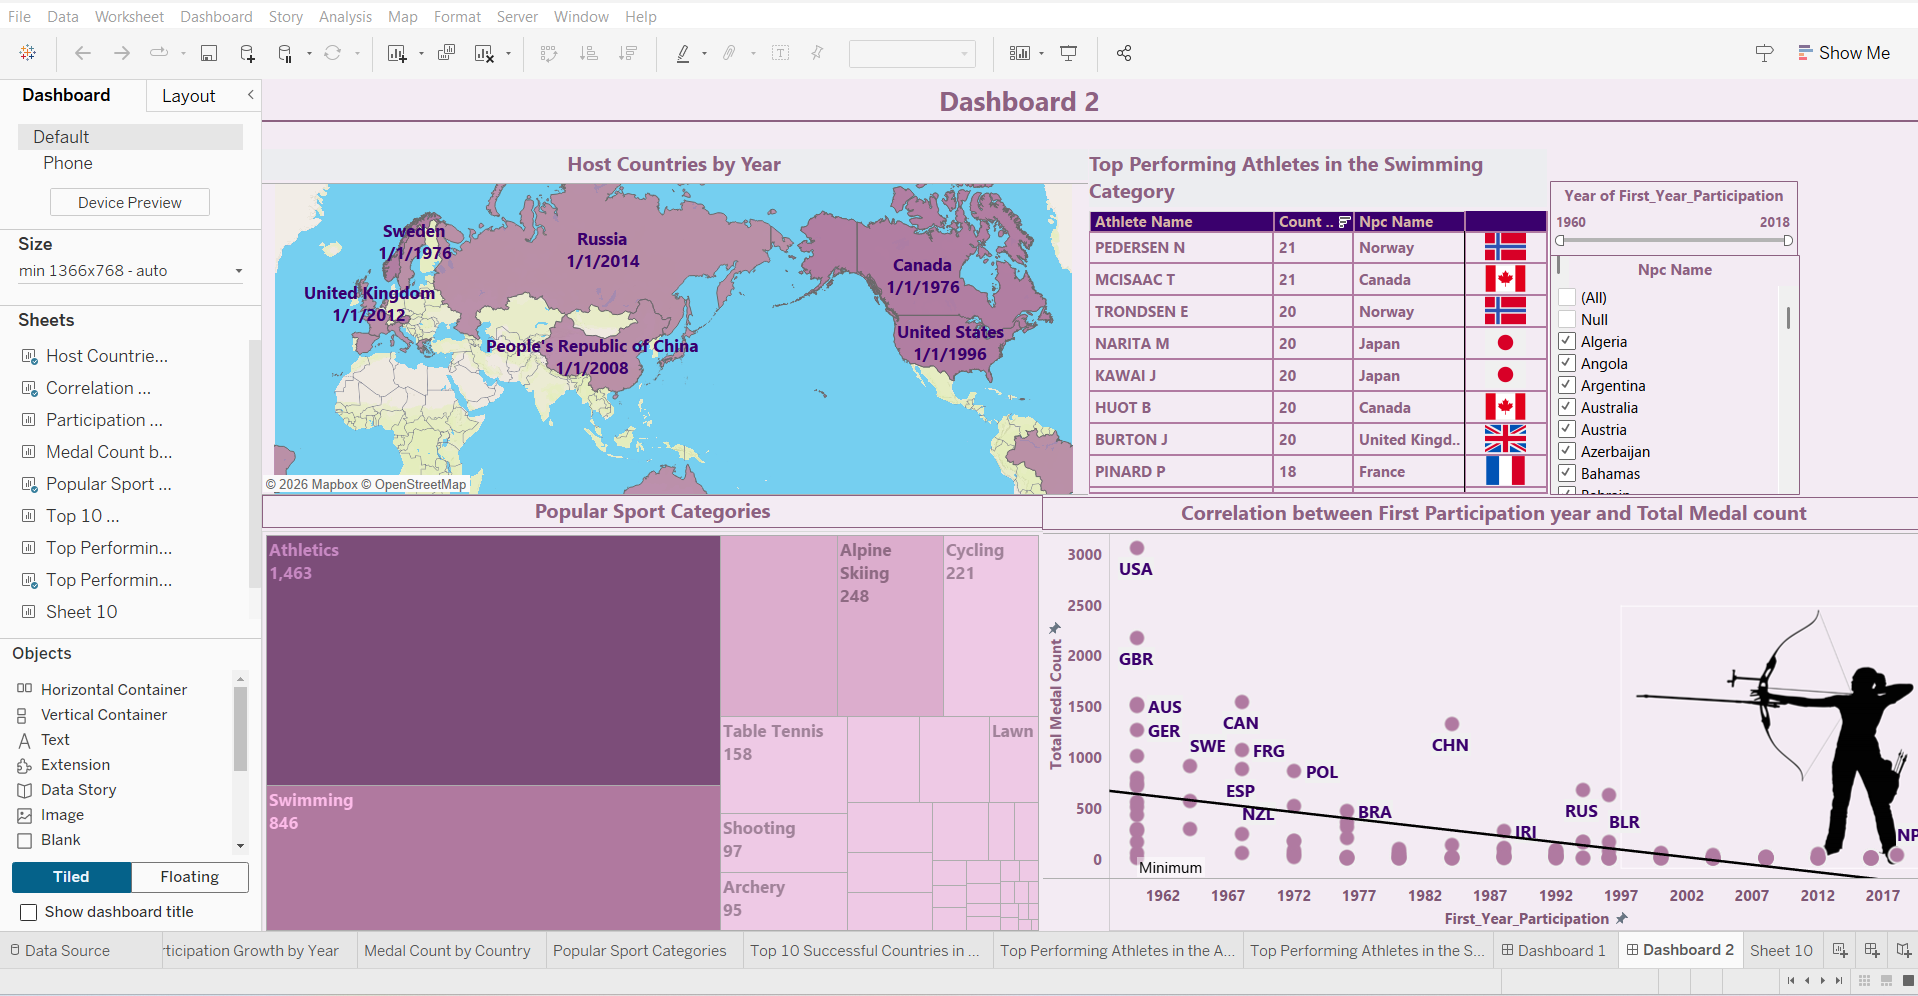

Layout of this report page (visuals, bound fields, positions):
{"tool":"tableau","page":{"name":"Dashboard 2","canvas":[1000,1000],"units":"permille","ordinal":1},"visuals":[{"type":"text","box":[376.3,6.5,162.5,35.2]},{"type":"worksheet","title":"Top Performing Athletes in the Swimming Category","mark":"Shape","rows":["athlete_name","medal","npc_name"],"box":[498.5,82.5,349.9,405.5]},{"type":"filter","title":"Correlation between First Participation year and Total Medal count","param":"[federated.1isyg0o0jvhobf1ft3z9z01cdmjr].[tyr:Calculation_3002493586552057856:qk","box":[777.1,120.3,149.8,88.2]},{"type":"filter","title":"Popular Sport Categories","param":"[federated.1isyg0o0jvhobf1ft3z9z01cdmjr].[none:npc_name:nk]","box":[777.1,207.3,151,281.8]}]}

Visuals, with their boxes on the dashboard's canvas, which has no fixed pixel size, in thousandths of its width and height (x1, y1, x2, y2). These are canvas units, not pixel positions in the 1918x996 screenshot, which may show the page scaled, cropped or inside an application window:
text: region(376, 6, 539, 42)
"Top Performing Athletes in the Swimming Category" worksheet (Shape marks): region(498, 82, 848, 488)
"Correlation between First Participation year and Total Medal count" filter: region(777, 120, 927, 208)
"Popular Sport Categories" filter: region(777, 207, 928, 489)
